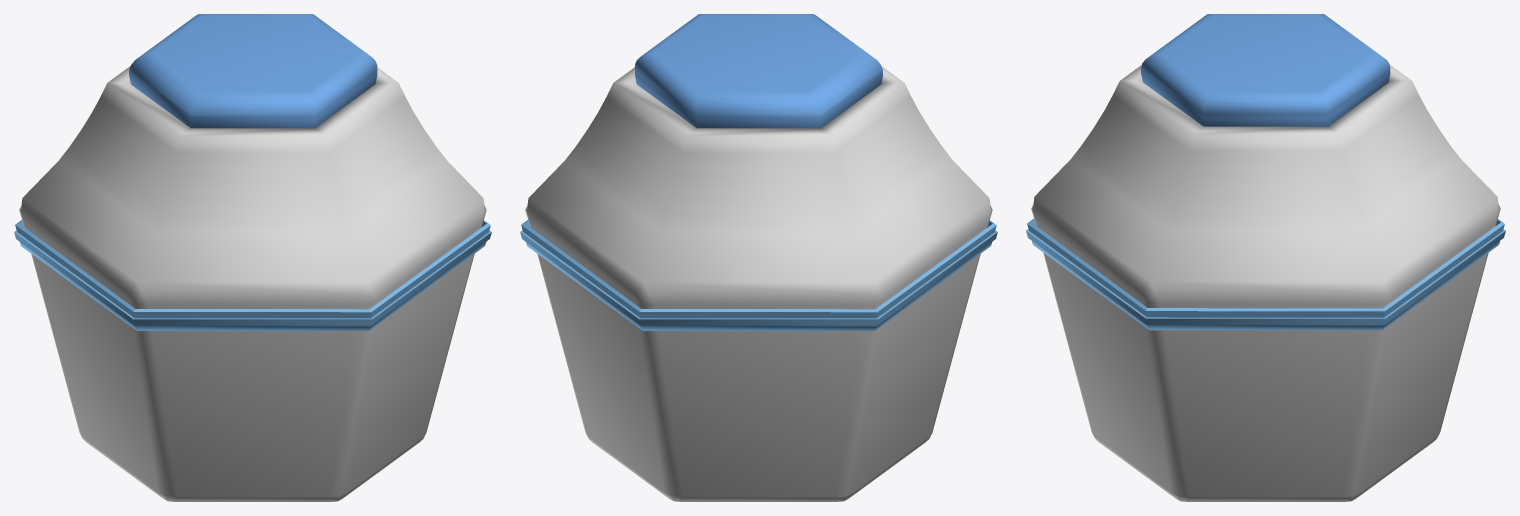
The model's file is iksir şişesi 3.fbx.
3 renders of one model, left to right at view 1: azimuth 30°, elevation 25°; view 2: azimuth 150°, elevation 25°; view 3: azimuth 270°, elevation 25°, orthographic.
Visible parts, largest first — view 1: Circle, Circle.001, Plane; view 2: Circle, Circle.001, Plane; view 3: Circle, Circle.001, Plane.
Boxes of the visible parts, x1,y1,x2,y2 form: Circle: (19, 66, 486, 501); Circle.001: (129, 14, 377, 128); Plane: (14, 220, 491, 330); Circle: (525, 66, 992, 501); Circle.001: (635, 14, 882, 128); Plane: (520, 220, 997, 330); Circle: (1031, 65, 1500, 501); Circle.001: (1141, 14, 1390, 126); Plane: (1026, 219, 1505, 330).
Bounding box in the file's own units: 238 × 247 × 275.
